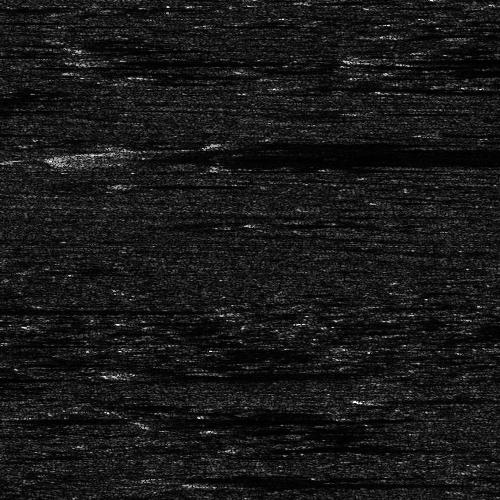rock: (11, 146, 198, 165), (107, 467, 200, 486), (177, 478, 282, 489), (356, 394, 439, 401), (78, 55, 131, 62), (122, 179, 153, 190), (0, 412, 27, 423), (268, 84, 321, 89), (117, 72, 158, 77), (122, 371, 153, 376), (383, 33, 424, 36), (398, 67, 409, 78), (370, 55, 381, 62)
shadow: (105, 146, 500, 165), (154, 467, 374, 486), (230, 478, 457, 489), (105, 55, 322, 62), (0, 304, 163, 313), (0, 412, 109, 423), (404, 67, 500, 78), (138, 179, 226, 190), (295, 84, 482, 89), (376, 55, 500, 62), (398, 394, 500, 401), (138, 72, 225, 77), (0, 13, 37, 22), (404, 33, 500, 36), (0, 373, 38, 380), (138, 371, 182, 376)
